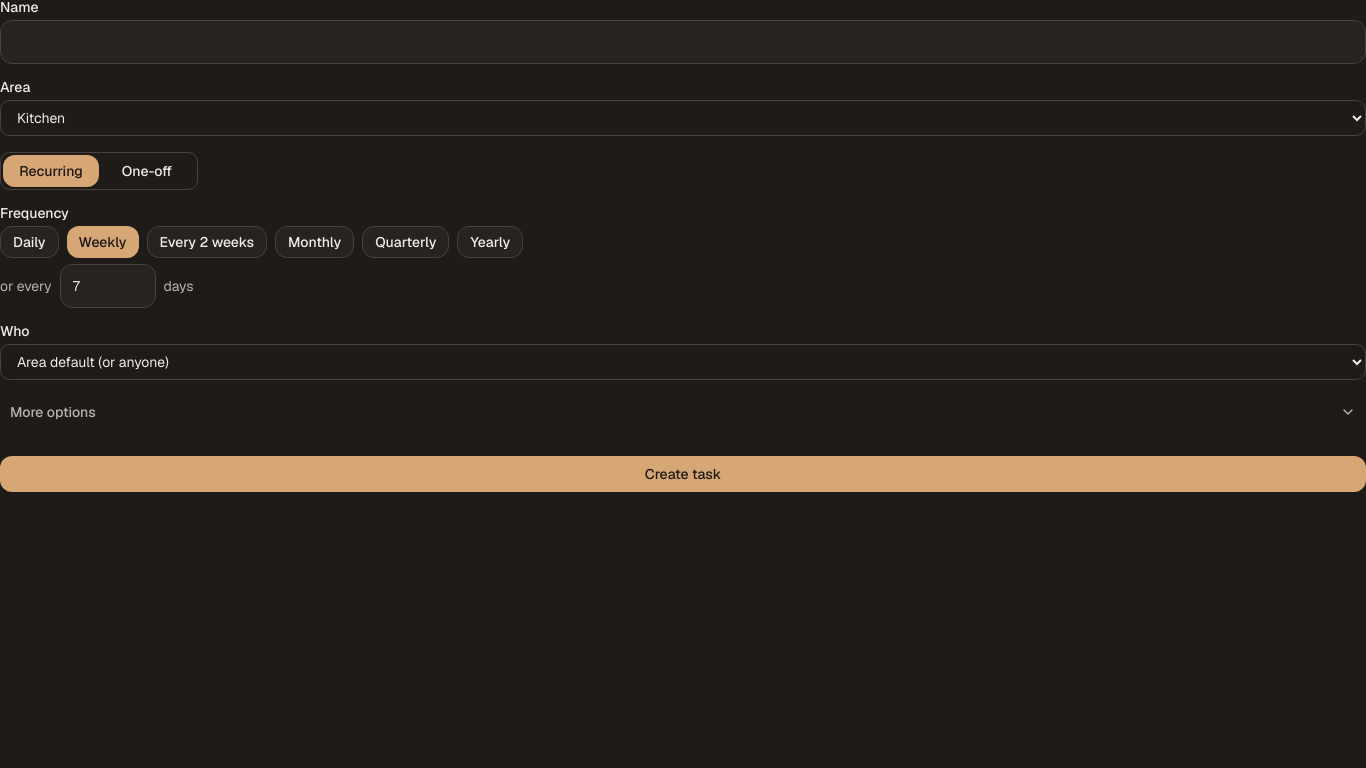
Test: TaskForm progressive disclosure › FormData field names are unchanged after expanding
The image size is (1366, 768).
Click the button "More options" at {"x": 53, "y": 412}, box [0,396,1365,428]
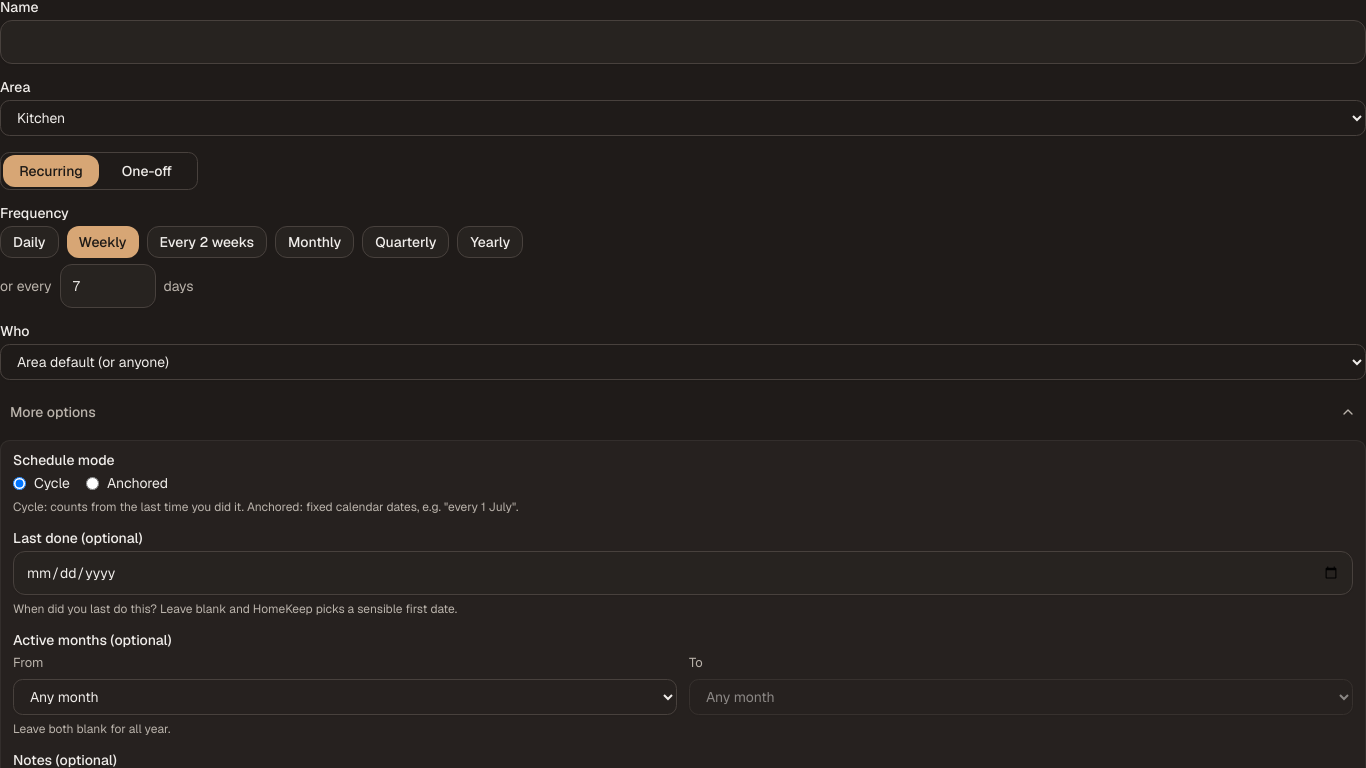
Click the button "One-off" at {"x": 147, "y": 171}, box [99,155,195,187]
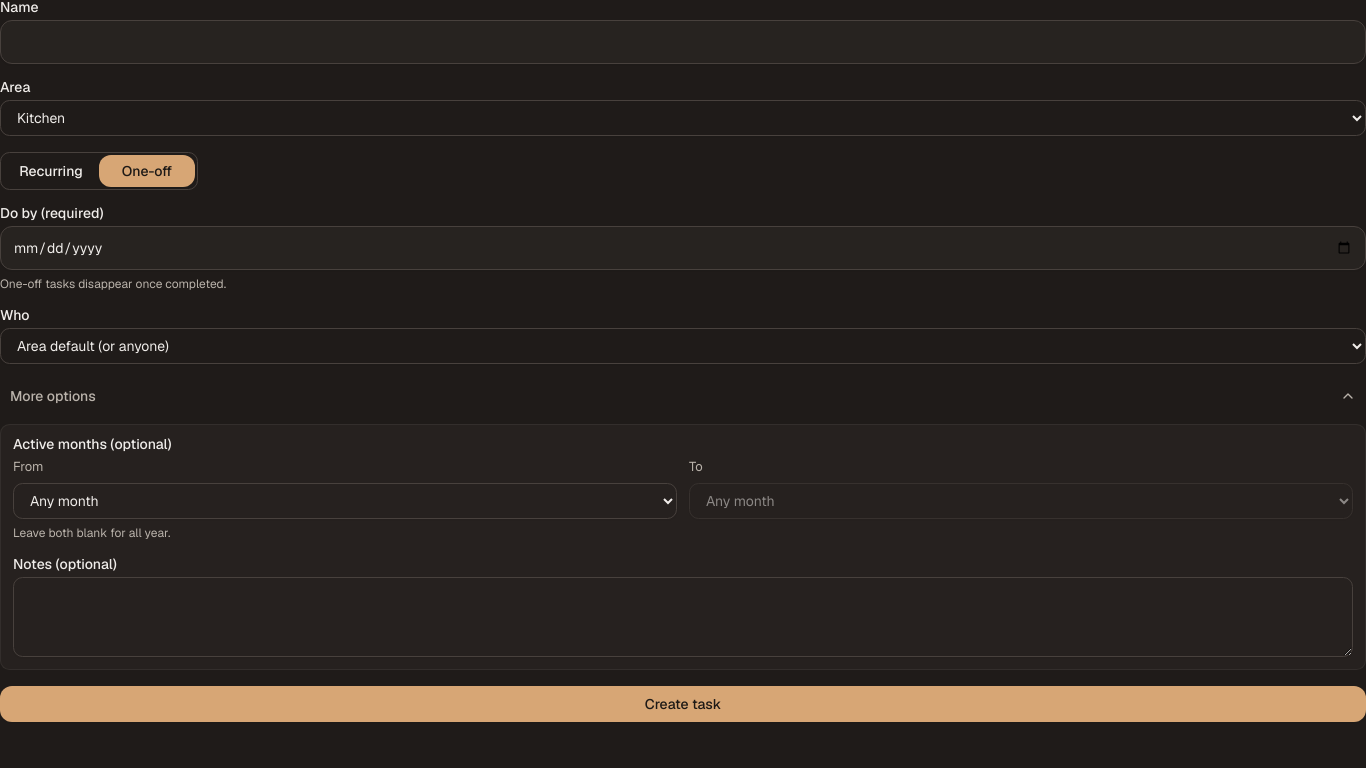
Now the date field named "due_date" is shown, box [0,226,1365,270]
